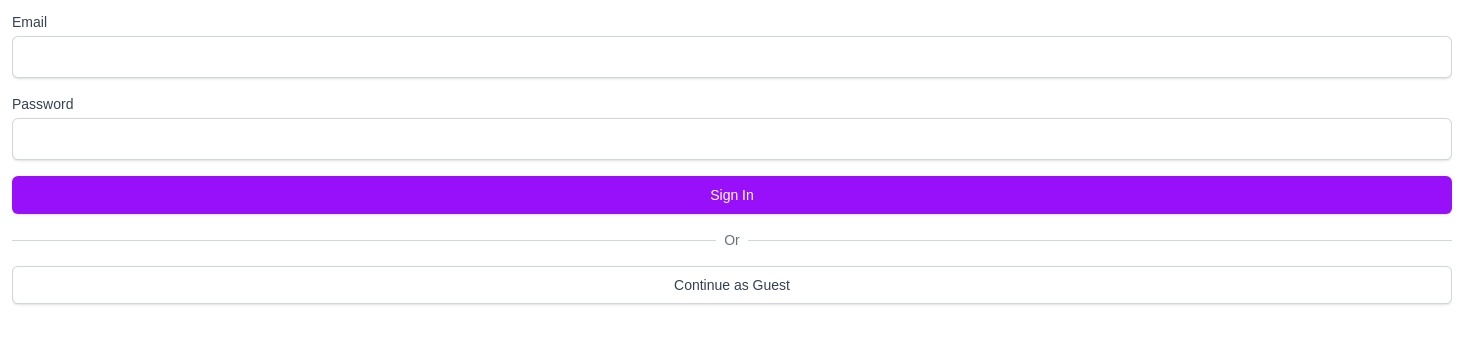
Scenario: LoginForm › should handle login error
In the field labelled "Email": (732, 57) left=12, top=36, right=1452, bottom=78, type "test@example.com"
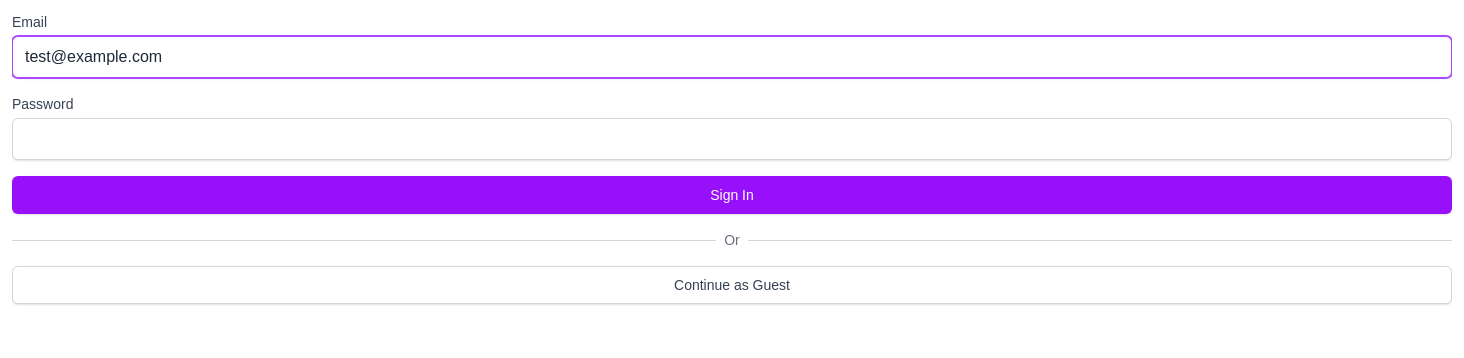
In the password field labelled "Password": (732, 139) left=12, top=118, right=1452, bottom=160, type "wrongpassword"
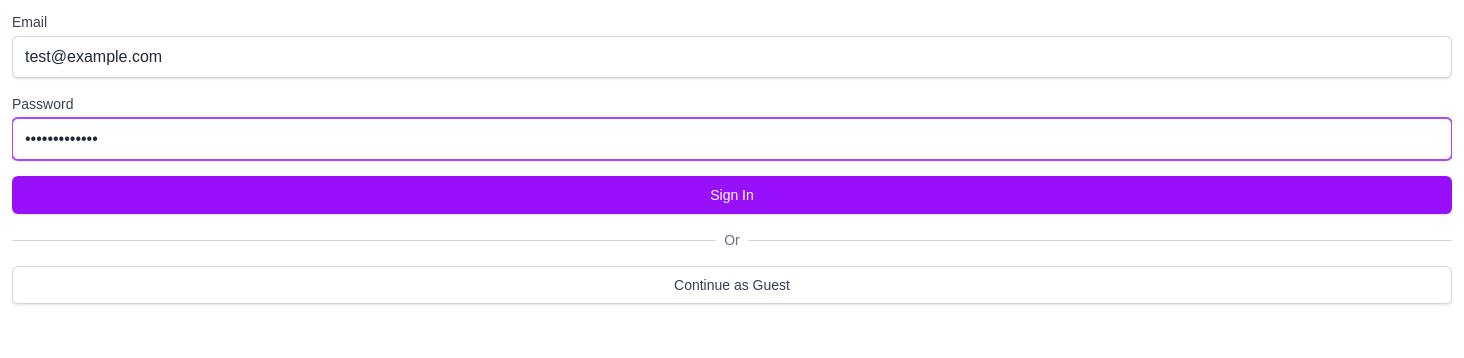
Click the button "Sign In": (732, 195) left=12, top=176, right=1452, bottom=214
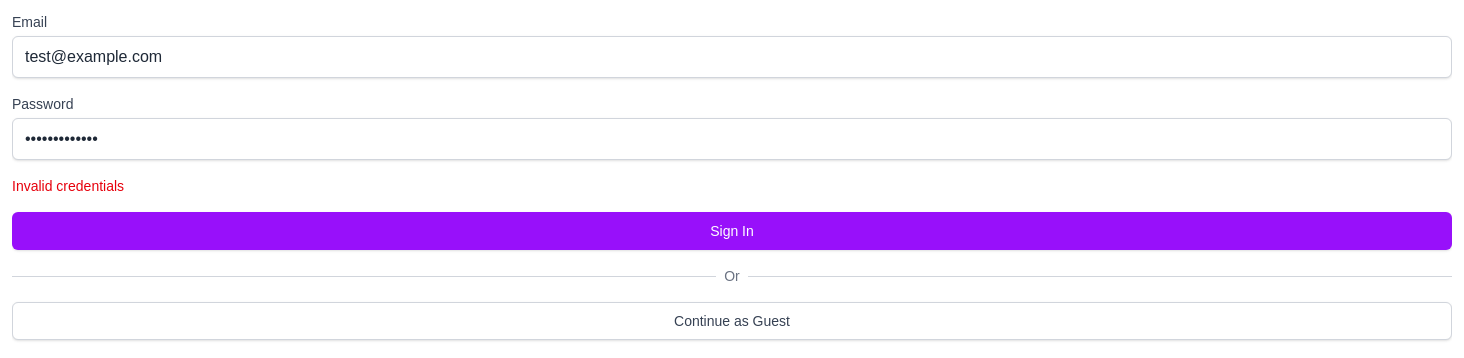
Expected: the text "Invalid credentials" is shown, left=12, top=178, right=124, bottom=194
